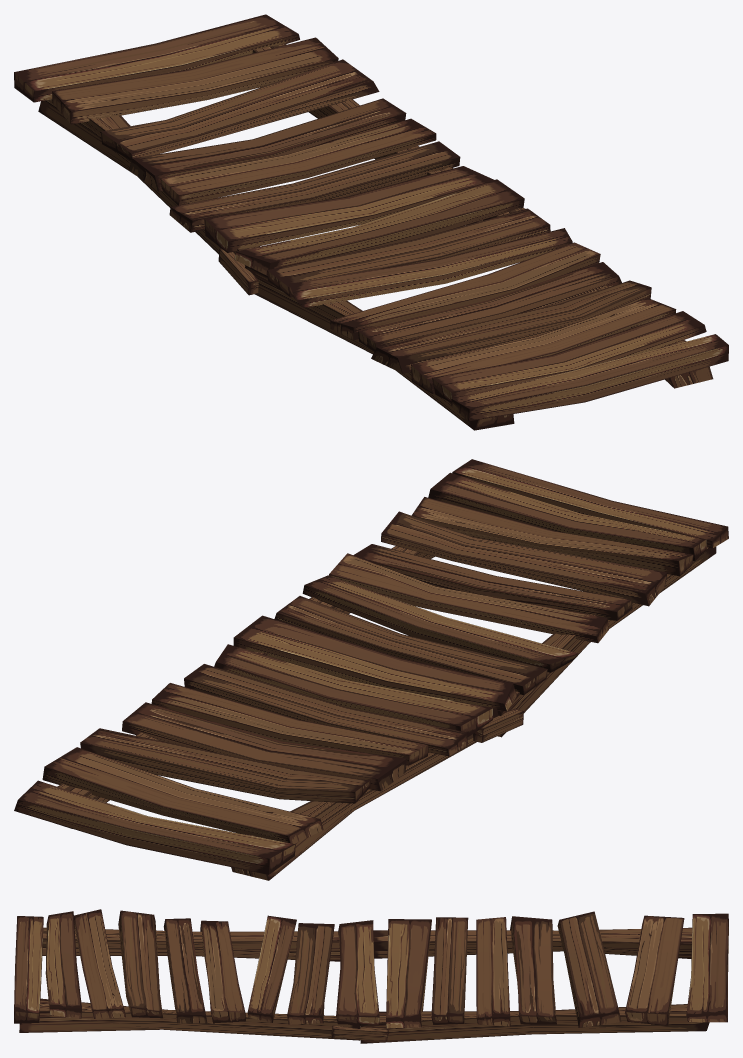
The model's file is SM_PROP_woodbridge_dungeon_10.fbx.
3 views of the same model, one above another, from view 1: azimuth 30°, elevation 25°; view 2: azimuth 150°, elevation 25°; view 3: azimuth 270°, elevation 25° (orthographic). The views are drawn at different scales.
Parts seen in each view (by area): view 1: SM_PROP_woodbridge_dungeon_10; view 2: SM_PROP_woodbridge_dungeon_10; view 3: SM_PROP_woodbridge_dungeon_10.
Part boxes in pixels (box(x1,y1,x2,y2)): SM_PROP_woodbridge_dungeon_10: box(14, 14, 728, 430); SM_PROP_woodbridge_dungeon_10: box(14, 459, 728, 880); SM_PROP_woodbridge_dungeon_10: box(14, 909, 728, 1043).
Size of the model in its own units: 285 by 50 by 801.
